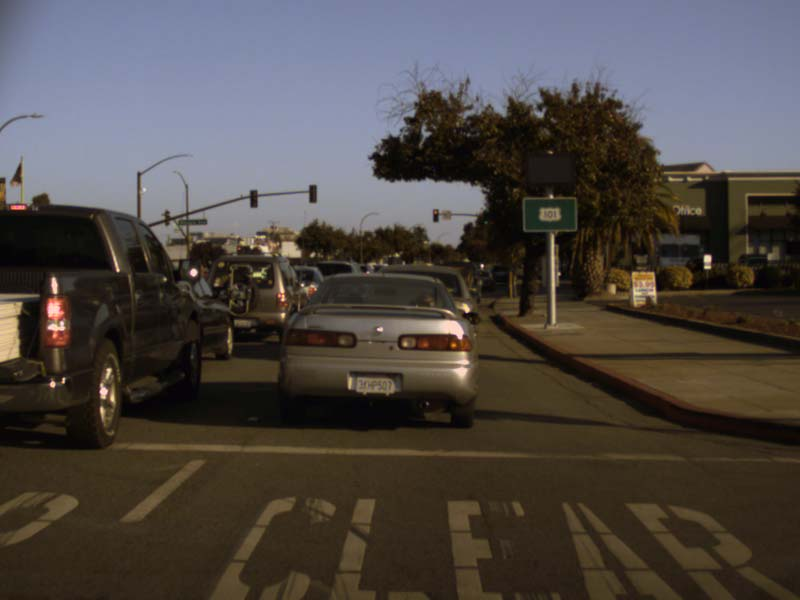Green: (482, 219, 488, 224)
Red: (432, 209, 438, 221), (237, 245, 242, 258)
